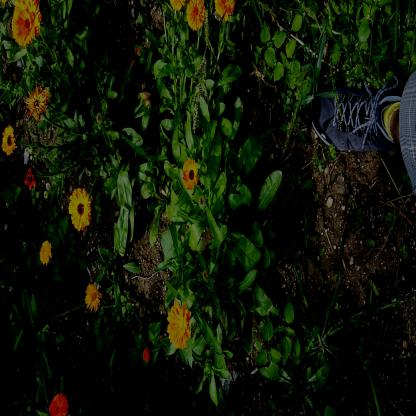marigold: (11, 2, 41, 40), (168, 304, 192, 348), (68, 186, 92, 228), (187, 0, 204, 32), (48, 393, 68, 416), (2, 126, 16, 156), (184, 161, 198, 191), (85, 283, 99, 312), (39, 242, 51, 264)
